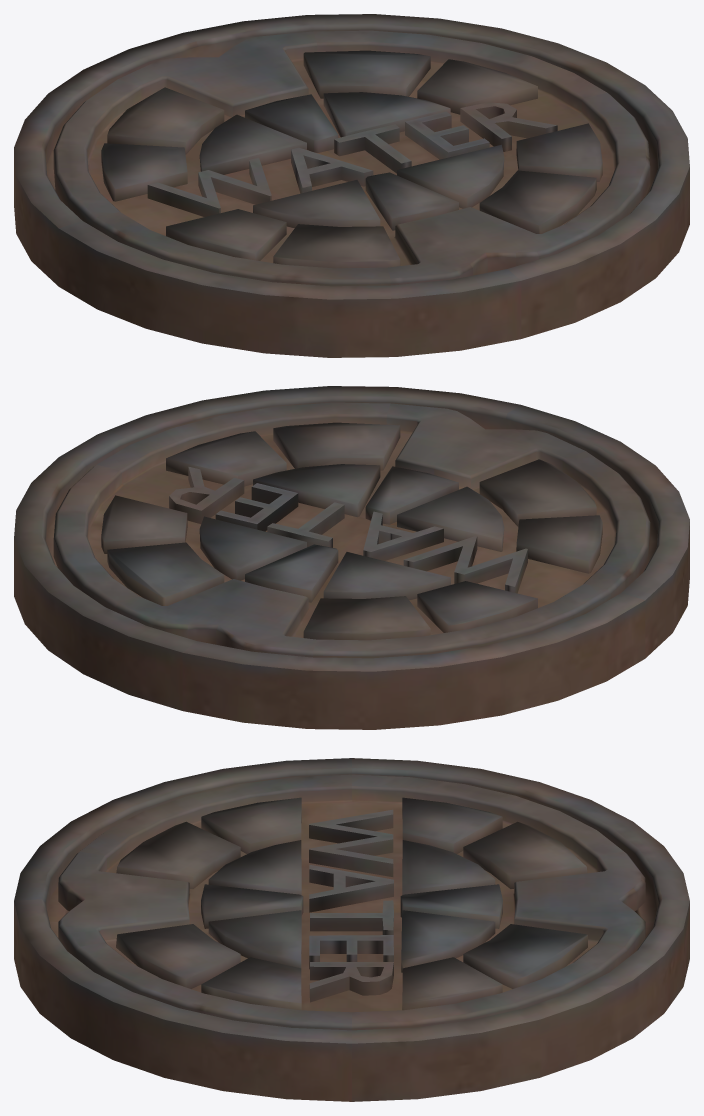
The model's file is manhole.glb.
The picture shows the model from 3 angles, top to bottom: view 1: azimuth 30°, elevation 25°; view 2: azimuth 150°, elevation 25°; view 3: azimuth 270°, elevation 25°; orthographic projection.
Parts seen in each view (by area): view 1: water_manhole_cover_frame; view 2: water_manhole_cover_frame; view 3: water_manhole_cover_frame.
Boxes of the visible parts, box(x1,y1,x2,y2) form: water_manhole_cover_frame: box(14, 14, 689, 357); water_manhole_cover_frame: box(14, 386, 689, 729); water_manhole_cover_frame: box(14, 758, 689, 1101).
Size of the model in its own units: 0.6908 by 0.0676 by 0.6908.
1 material, 1 textured.
